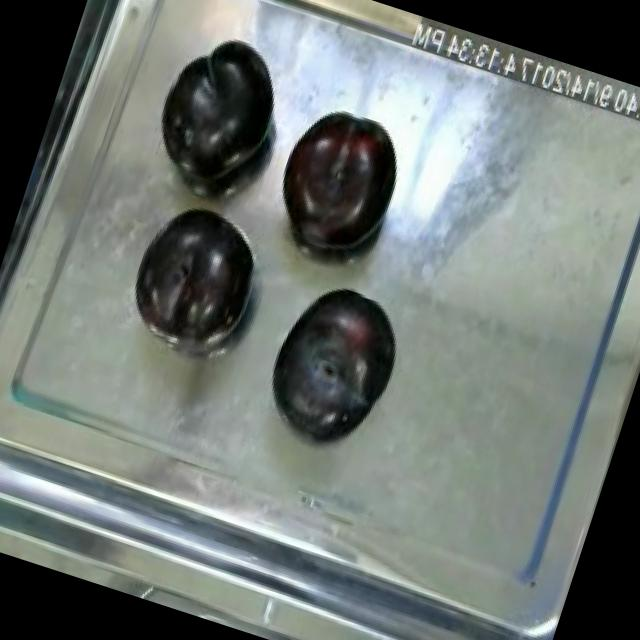Fruit: (254, 270, 418, 456), (257, 90, 420, 272), (142, 22, 300, 200), (118, 193, 272, 361)
